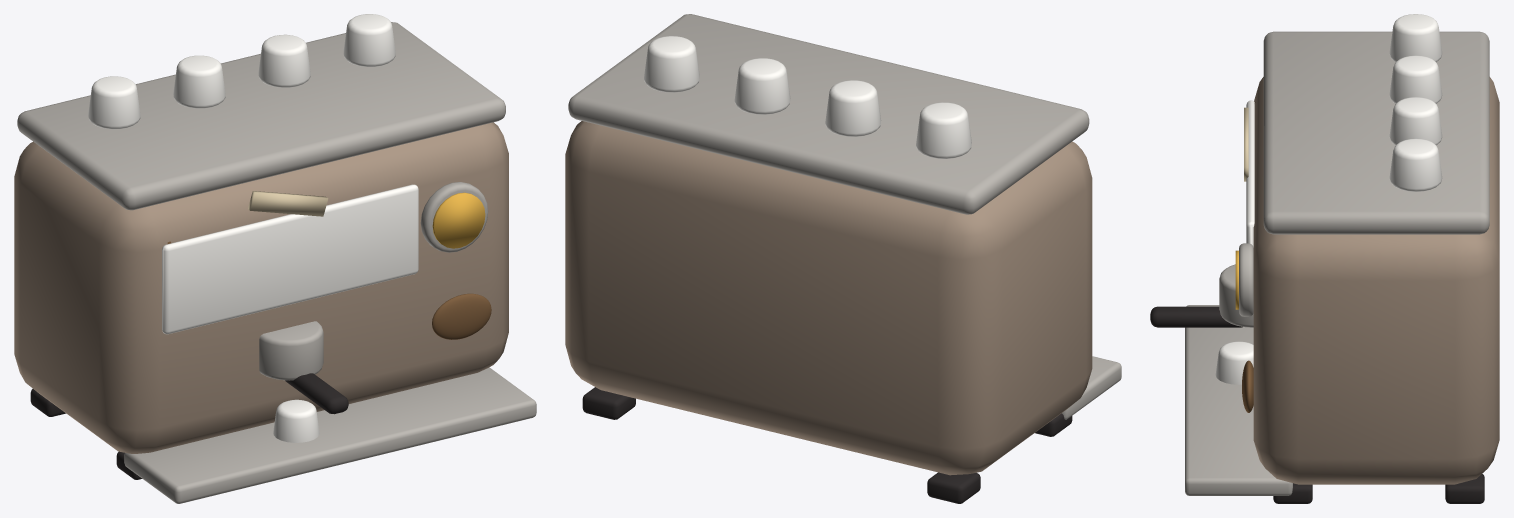
The model's file is machine_occasion.glb.
3 views of the same model, side by side, from view 1: azimuth 30°, elevation 25°; view 2: azimuth 150°, elevation 25°; view 3: azimuth 270°, elevation 25° (orthographic). The views are drawn at different scales.
Visible parts, largest first — view 1: carrosserie, toit, facade, egouttoir, groupe0, tasse_toit1, tasse_toit2, tasse_toit0, tasse_toit3, cadran, rouille1, tasse0 (+3 smaller); view 2: carrosserie, toit, tasse_toit0, tasse_toit1, tasse_toit2, tasse_toit3, egouttoir, pied1, pied0; view 3: carrosserie, toit, egouttoir, tasse_toit3, tasse_toit1, tasse_toit0, tasse_toit2, porte_filtre0, tasse0, facade, groupe0, manometre (+3 smaller).
Boxes of the visible parts, x1,y1,x2,y2 form: carrosserie: (14, 122, 508, 453); toit: (17, 22, 505, 210); facade: (162, 184, 418, 334); egouttoir: (124, 367, 536, 503); groupe0: (259, 321, 323, 380); tasse_toit1: (173, 55, 225, 108); tasse_toit2: (258, 34, 310, 87); tasse_toit0: (88, 76, 140, 129); tasse_toit3: (343, 14, 395, 66); cadran: (432, 192, 485, 248); rouille1: (432, 293, 491, 339); tasse0: (273, 399, 319, 442); carrosserie: (565, 121, 1092, 475); toit: (568, 14, 1089, 214); tasse_toit0: (916, 102, 971, 158); tasse_toit1: (825, 80, 881, 136); tasse_toit2: (734, 58, 790, 114); tasse_toit3: (644, 36, 699, 92); egouttoir: (1062, 356, 1121, 419); pied1: (927, 472, 980, 503); pied0: (582, 387, 635, 419); carrosserie: (1253, 77, 1499, 484); toit: (1263, 31, 1489, 234); egouttoir: (1185, 305, 1292, 495); tasse_toit3: (1389, 138, 1442, 191); tasse_toit1: (1389, 55, 1442, 103); tasse_toit0: (1389, 14, 1442, 62); tasse_toit2: (1389, 97, 1442, 145); porte_filtre0: (1150, 306, 1242, 327); tasse0: (1215, 341, 1253, 384); facade: (1246, 100, 1254, 247); groupe0: (1219, 264, 1253, 327); manometre: (1239, 243, 1253, 316).
Size of the model in its own units: 0.95 by 0.75 by 0.71.
